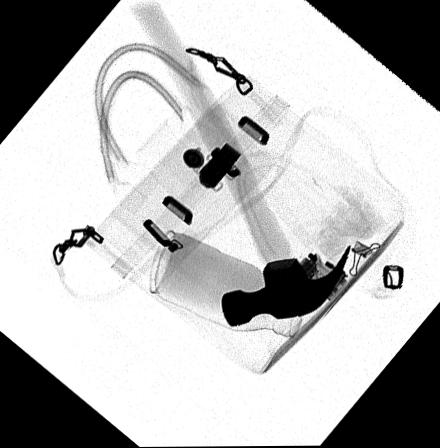Hammer: (130, 2, 350, 328)
